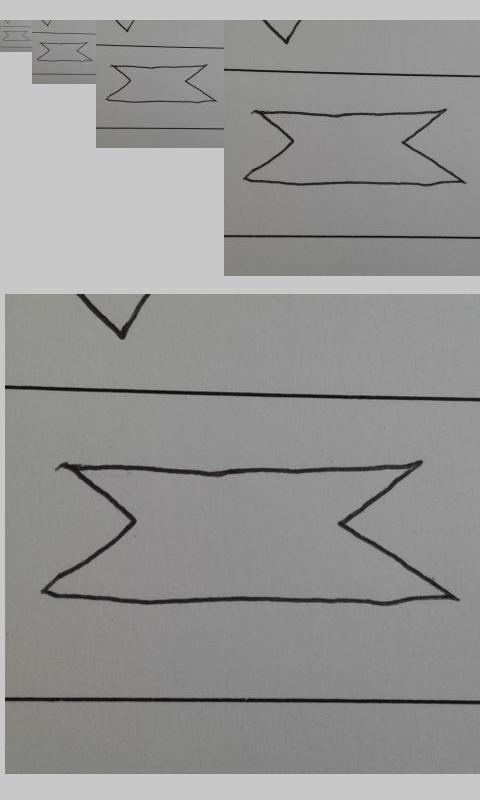edit_text: (41, 459, 456, 609), (242, 108, 465, 188), (105, 64, 217, 104), (36, 41, 92, 62), (2, 30, 30, 42)
